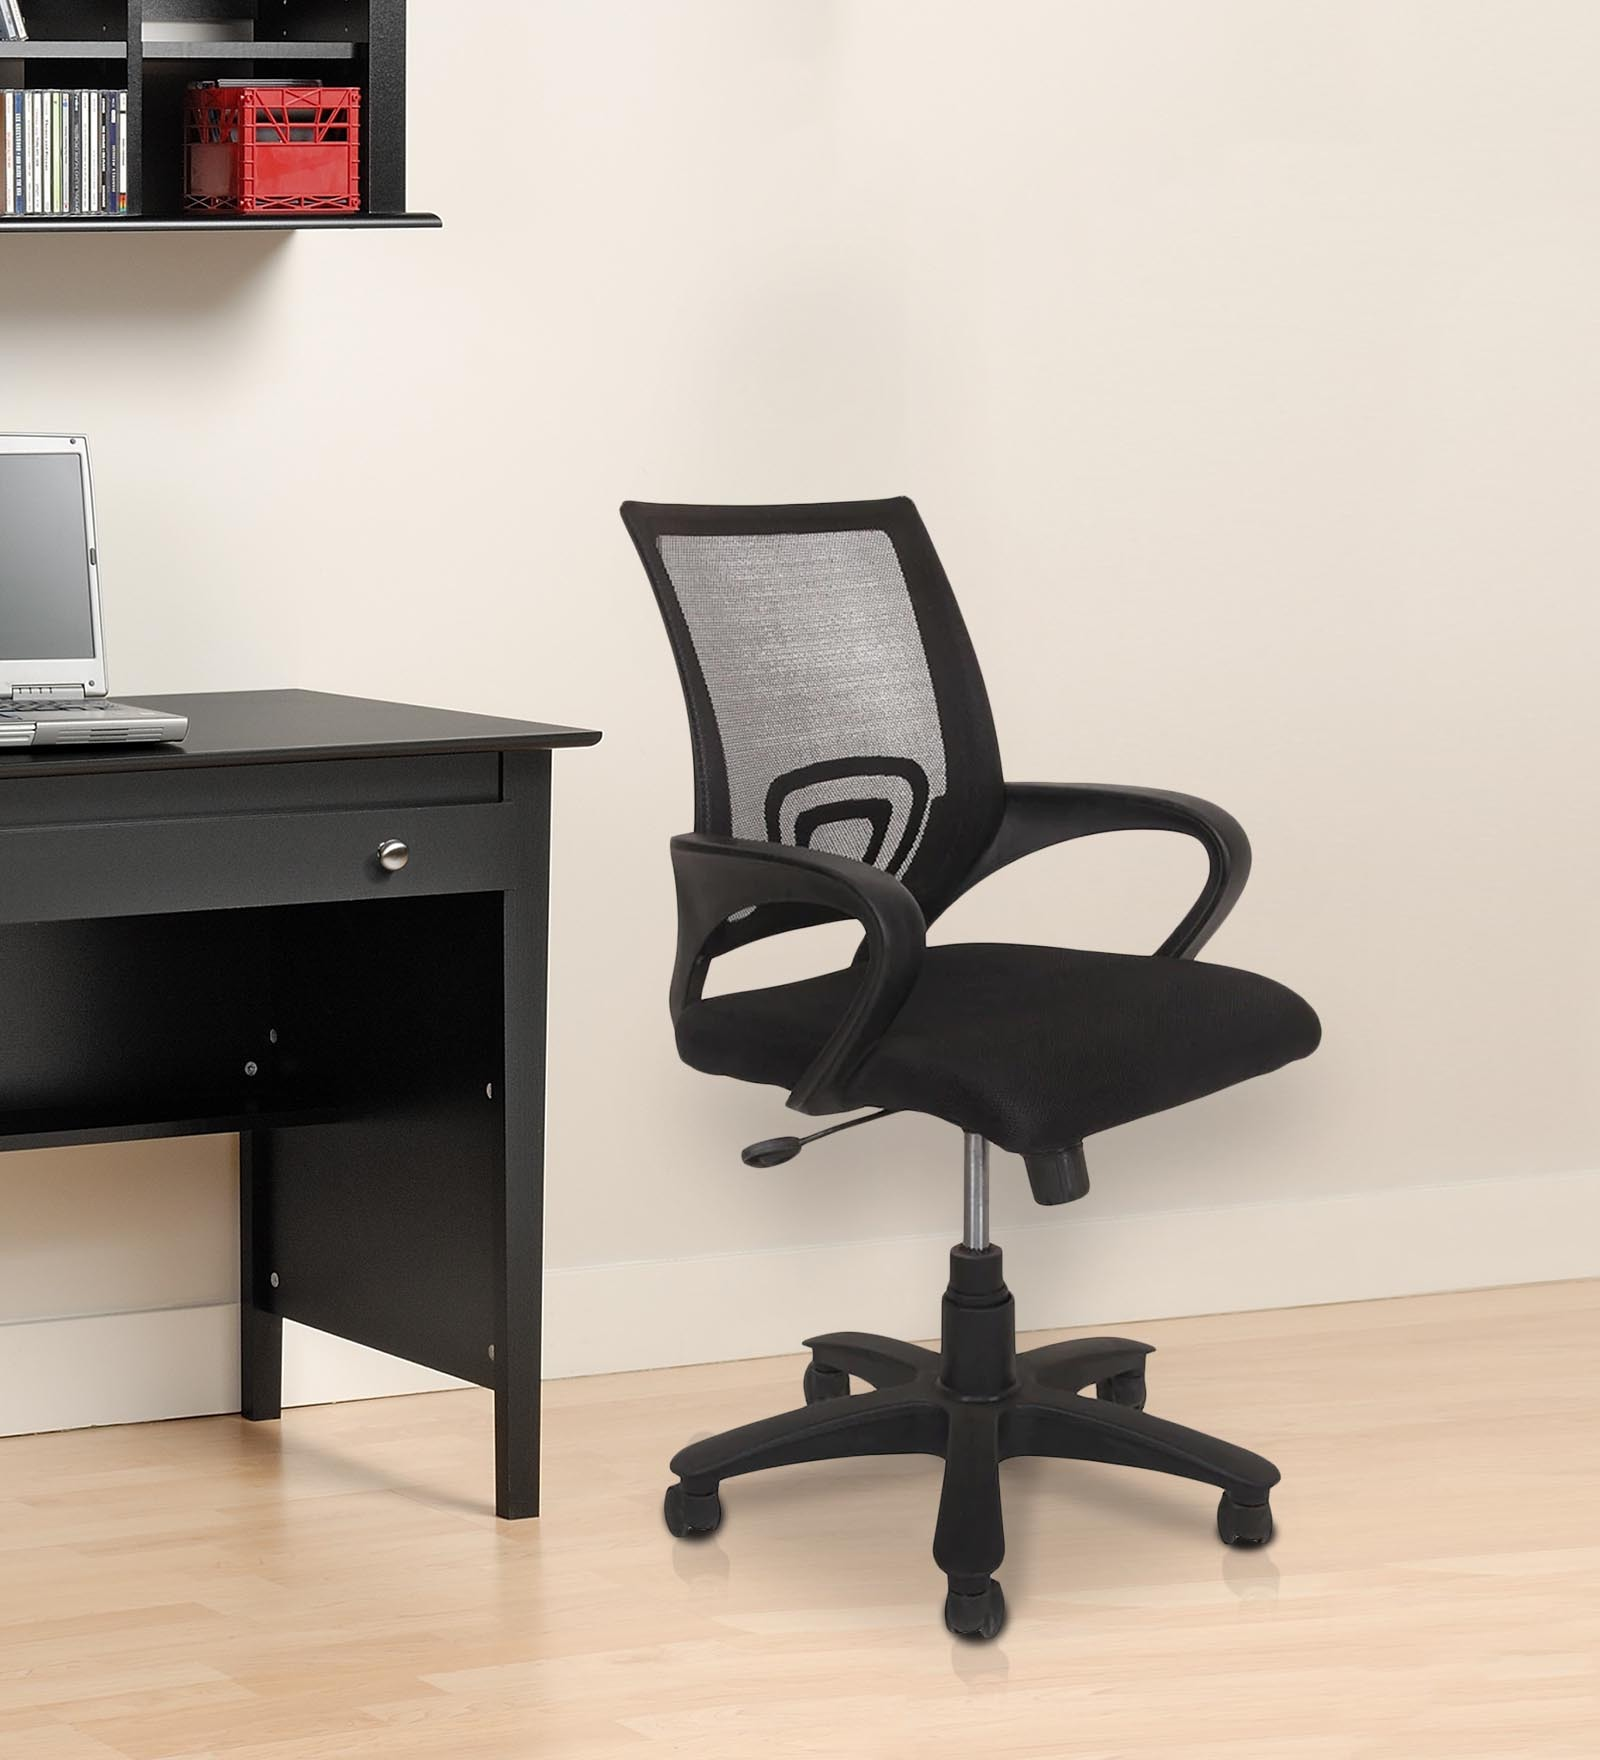Ergo High Back Ergonomic Chair in Black Colour by HomeTown: (566, 474, 572, 477)
Ergonomic Office Chair in Black Colour by Chromecraft: (547, 471, 1358, 1653)
